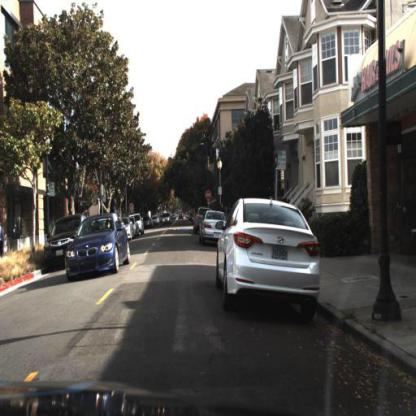car: (214, 196, 323, 324), (67, 213, 133, 285), (199, 210, 229, 249), (161, 213, 173, 227)
pedestrian: (1, 222, 6, 261)
